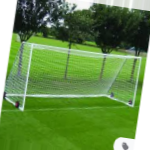goals: (5, 42, 142, 109)
